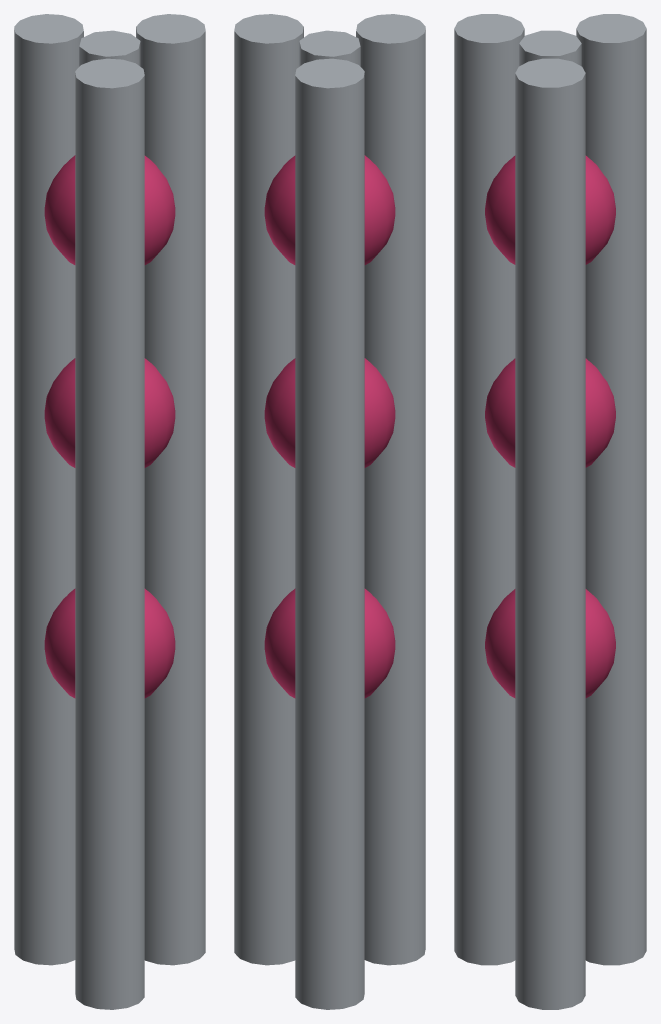
Rendered from PEARL_SHAFT.glb.
3 views of the same model, side by side, from view 1: azimuth 30°, elevation 25°; view 2: azimuth 150°, elevation 25°; view 3: azimuth 270°, elevation 25° (orthographic).
Visible parts, largest first — view 1: steel_0, carPaint_1; view 2: steel_0, carPaint_1; view 3: steel_0, carPaint_1.
Part boxes in pixels (x1,y1,x2,y2): steel_0: (14, 14, 205, 1009); carPaint_1: (44, 155, 175, 698); steel_0: (234, 14, 425, 1009); carPaint_1: (264, 155, 395, 698); steel_0: (454, 14, 646, 1009); carPaint_1: (485, 155, 615, 698).
Size of the model in its own units: 4.45 by 26 by 4.92.
